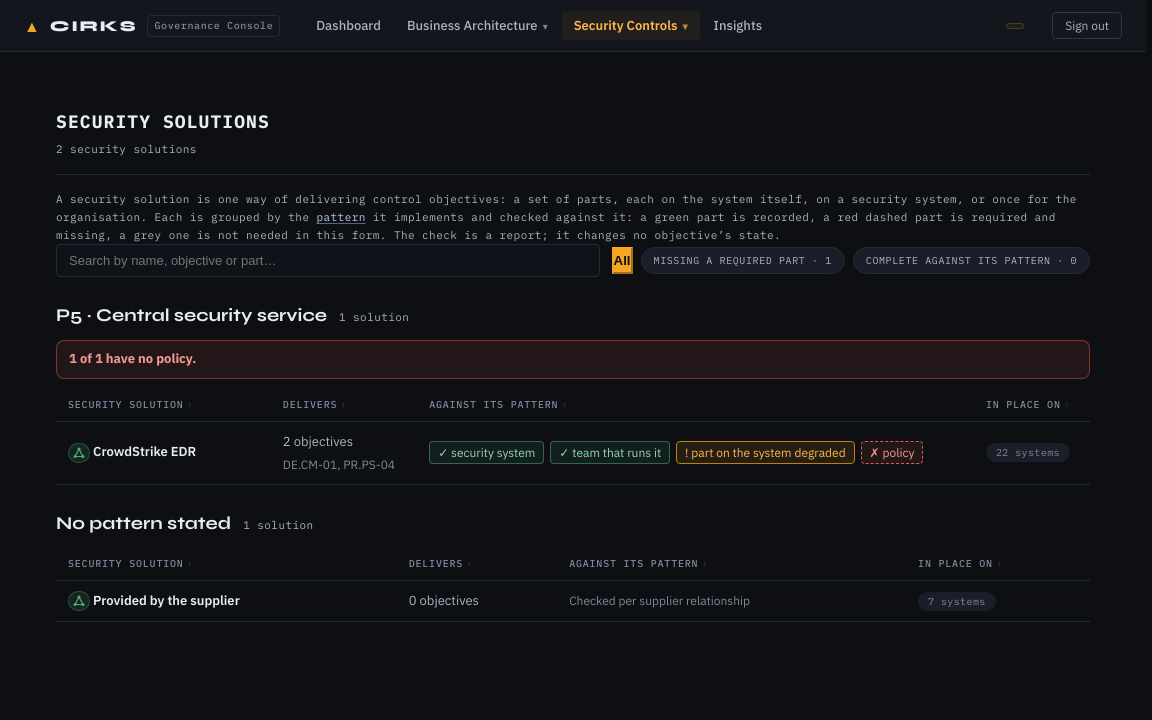
it: SecuritySolutionsPage › groups by pattern, checks each against it, and names the commonest gap
Expected: the text "1 of 1 have no policy." is shown, [69,350,196,367]
Expected: the text "✗ policy" is shown, [861,441,924,464]
Click the button "Complete against its pattern · 0" at {"x": 971, "y": 261}, box [853,247,1090,274]
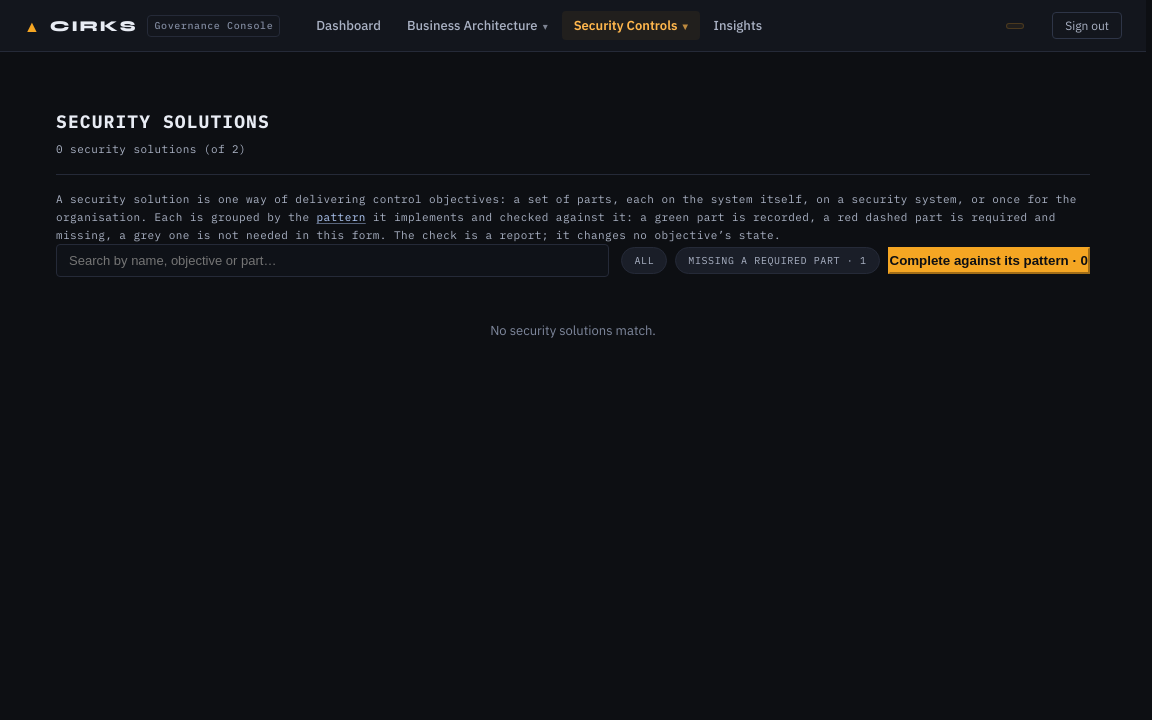
Expected: the text "CrowdStrike EDR" is gone
